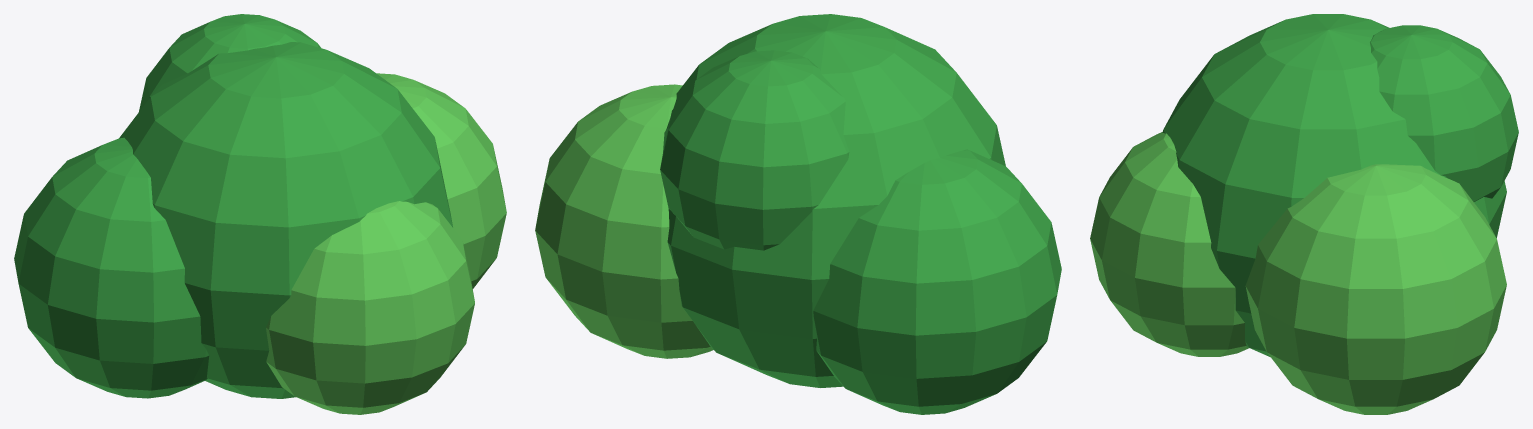
The model's file is bush.glb.
3 views of the same model, side by side, from view 1: azimuth 30°, elevation 25°; view 2: azimuth 150°, elevation 25°; view 3: azimuth 270°, elevation 25° (orthographic). The views are drawn at different scales.
Parts seen in each view (by area): view 1: bush_mesh; view 2: bush_mesh; view 3: bush_mesh.
Boxes of the visible parts, <box> form: bush_mesh: <box>14,14,506,414</box>; bush_mesh: <box>535,14,1061,414</box>; bush_mesh: <box>1090,14,1518,414</box>.
Size of the model in its own units: 2.22 by 1.5 by 1.8.
